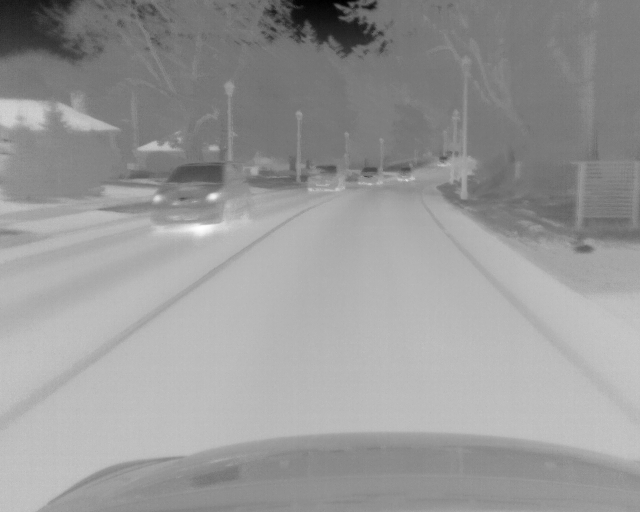car: (150, 162, 253, 234), (304, 164, 345, 191), (354, 167, 379, 187), (397, 166, 415, 182), (436, 156, 449, 166)
